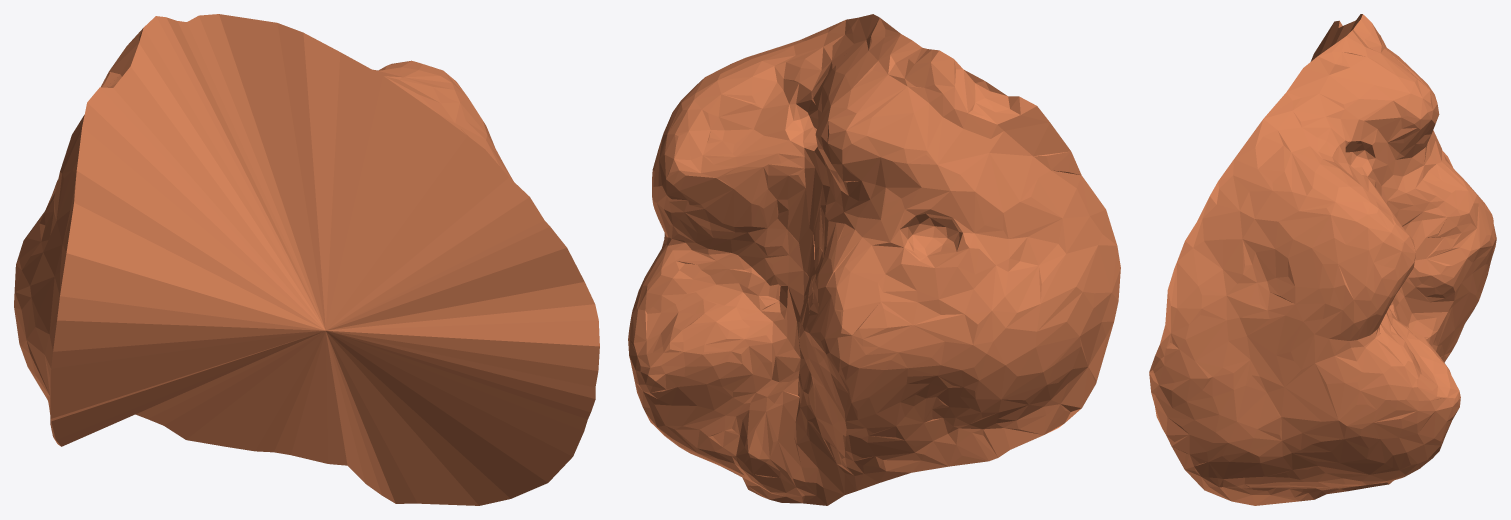
Rendered from Crown_27__Demo_Virtual_Patient.obj.
The picture shows the model from 3 angles, left to right: view 1: azimuth 30°, elevation 25°; view 2: azimuth 150°, elevation 25°; view 3: azimuth 270°, elevation 25°; orthographic projection. The views are drawn at different scales.
Bounding box in the file's own units: 11.37 × 12.05 × 9.36.
